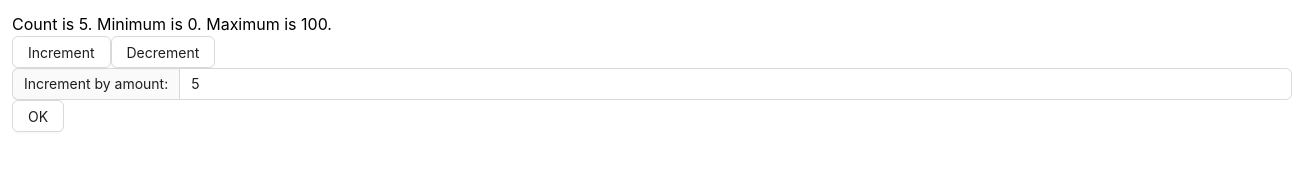
Test case: <Counter /> › should render the Counter and increase value by 1 after clicking on increment button
This screenshot has width=1304, height=172.
Expected: the heading with test id "counter-count" shows "Count is 5", x1=12 y1=14 x2=332 y2=34
Click the button with test id "counter-increment".
click(61, 52)  # box x1=12 y1=36 x2=110 y2=68
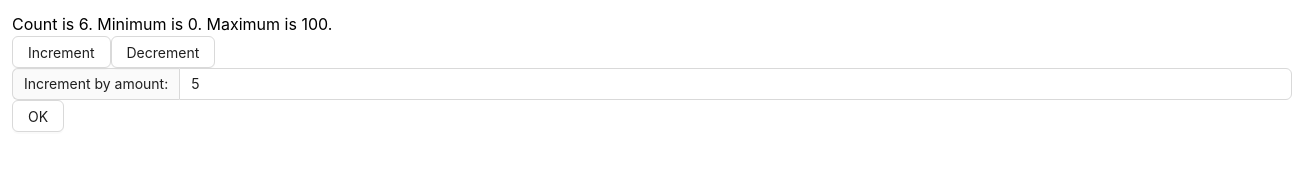
Result: the heading with test id "counter-count" shows "Count is 6" at x1=12 y1=14 x2=332 y2=34
